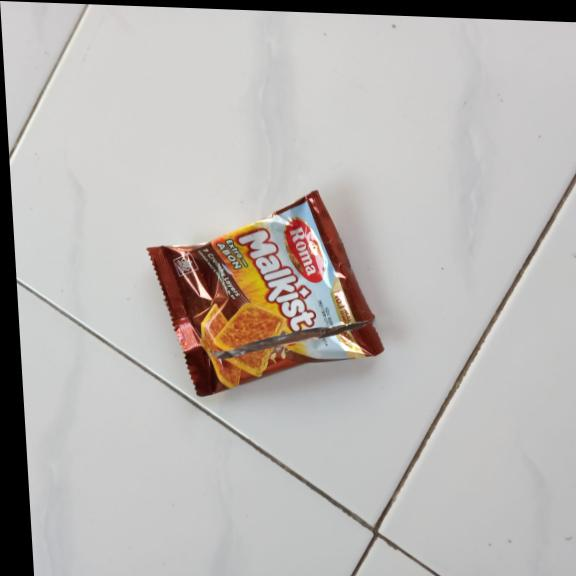Plastik: (143, 183, 388, 404)
